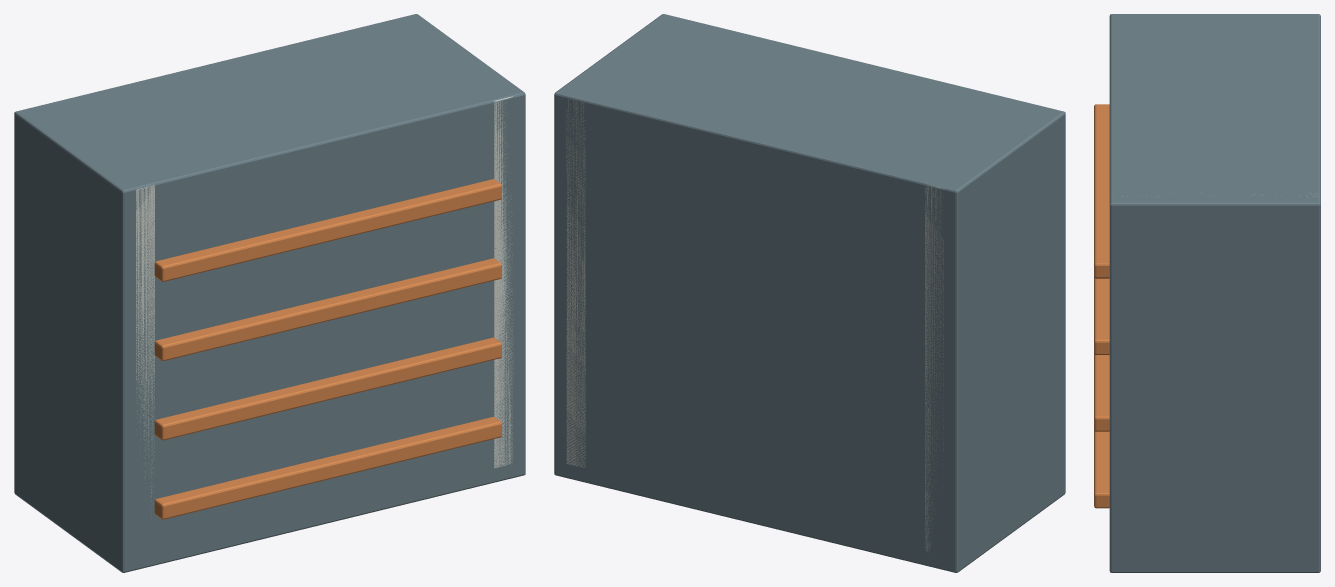
File: micro_reactor_exchanger_d0.glb
3 views of the same model, side by side, from view 1: azimuth 30°, elevation 25°; view 2: azimuth 150°, elevation 25°; view 3: azimuth 270°, elevation 25° (orthographic). The views are drawn at different scales.
Visible parts, largest first — view 1: Exchanger frame.004, Heat fin rack.009, Heat fin rack.008, Heat fin rack.010, Heat fin rack.011, Exchanger side brace.005, Exchanger side brace.004; view 2: Exchanger frame.004, Exchanger side brace.005, Exchanger side brace.004; view 3: Exchanger frame.004, Heat fin rack.011, Heat fin rack.008, Heat fin rack.009, Heat fin rack.010.
Part boxes in pixels (left/top/right/bottom): Exchanger frame.004: left=14, top=14, right=525, bottom=572; Heat fin rack.009: left=154, top=337, right=501, bottom=440; Heat fin rack.008: left=154, top=416, right=501, bottom=519; Heat fin rack.010: left=154, top=258, right=501, bottom=361; Heat fin rack.011: left=154, top=179, right=501, bottom=281; Exchanger side brace.005: left=494, top=96, right=513, bottom=468; Exchanger side brace.004: left=136, top=185, right=154, bottom=516; Exchanger frame.004: left=554, top=14, right=1065, bottom=572; Exchanger side brace.005: left=566, top=99, right=585, bottom=467; Exchanger side brace.004: left=925, top=185, right=944, bottom=552; Exchanger frame.004: left=1109, top=14, right=1320, bottom=572; Heat fin rack.011: left=1094, top=104, right=1109, bottom=278; Heat fin rack.008: left=1094, top=430, right=1109, bottom=508; Heat fin rack.009: left=1094, top=353, right=1109, bottom=431; Heat fin rack.010: left=1094, top=277, right=1109, bottom=354.
Bounding box in the file's own units: 3.2 × 2.9 × 1.61.
